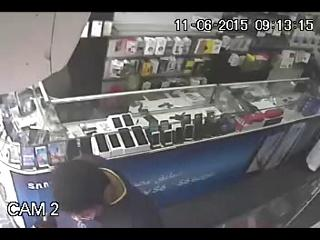Normal: (51, 160, 128, 228)
